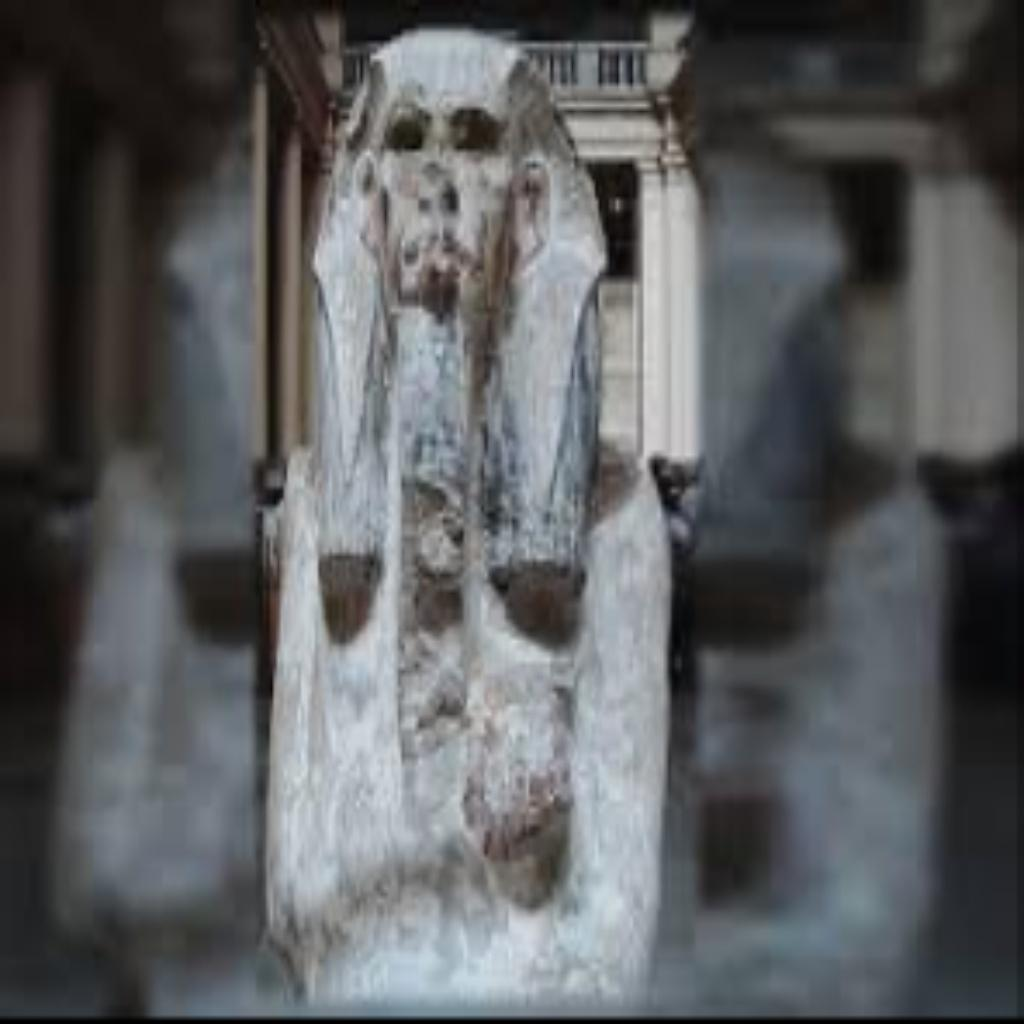Statue of King Zoser: (256, 24, 688, 1000)
